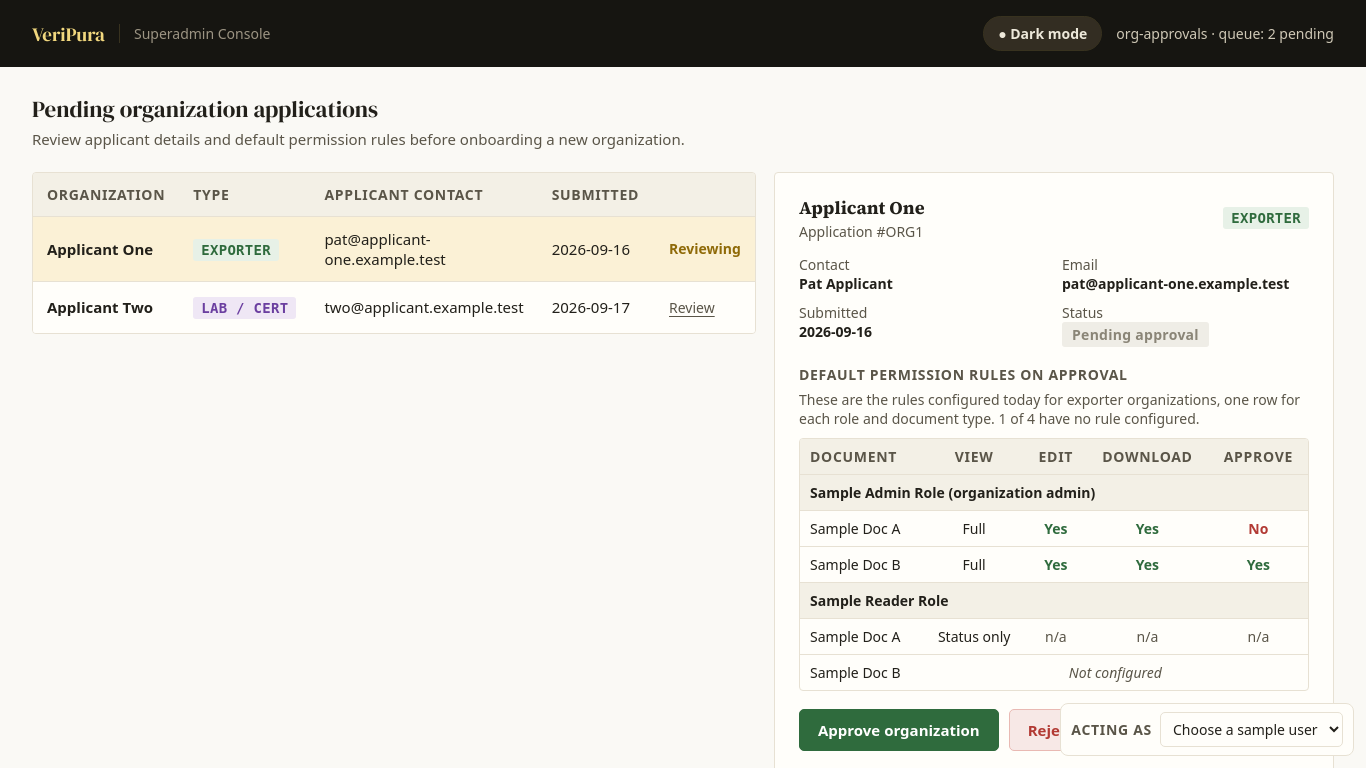
approval: approving and rejecting › asks first, explaining what approval does, and sends nothing until confirmed
The image size is (1366, 768).
Click the button "Approve organization": (899, 730) [799,708,999,750]
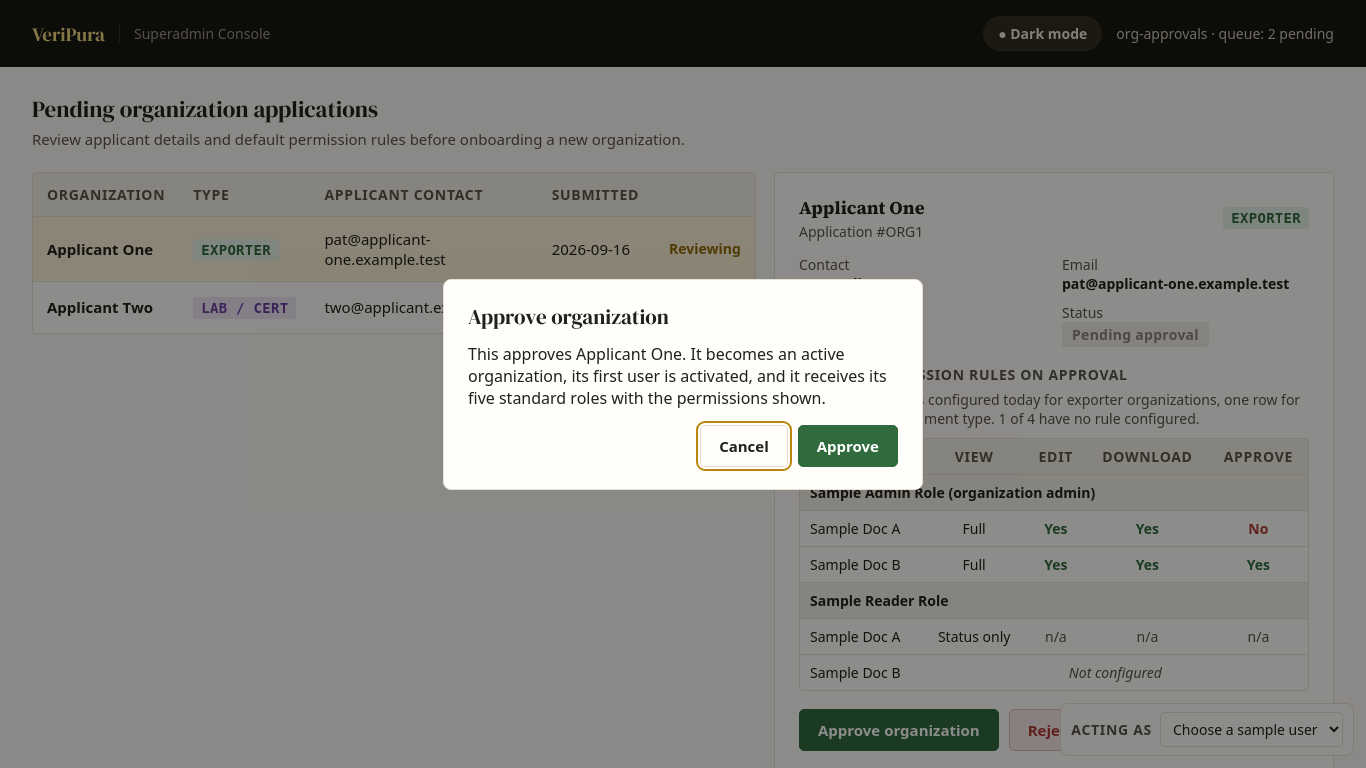
Check: the dialog "Approve organization" shows "This approves Applicant One", box [468,342,887,408]
Check: the dialog "Approve organization" shows "five standard roles", box [468,342,887,408]
Click the button "Cancel": (744, 446) [700,424,788,466]
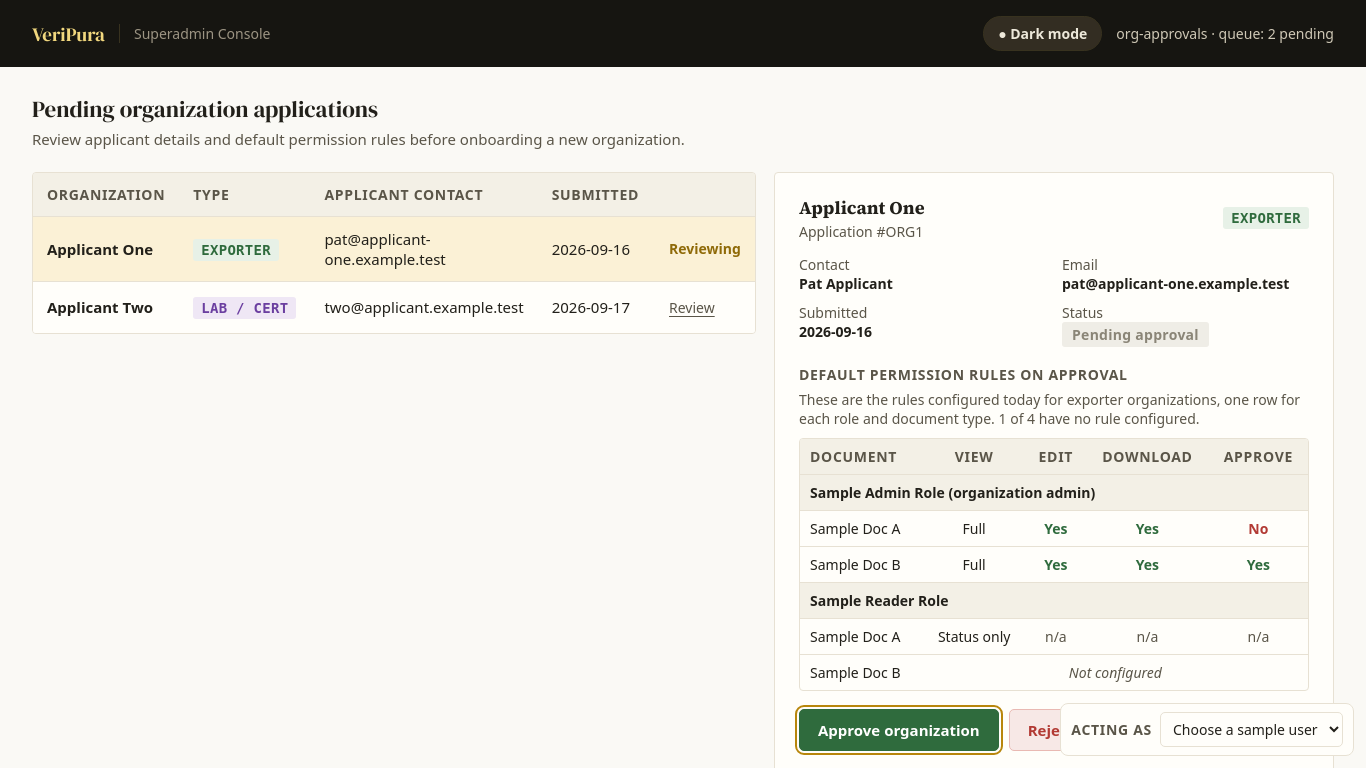
Check: the dialog is gone
